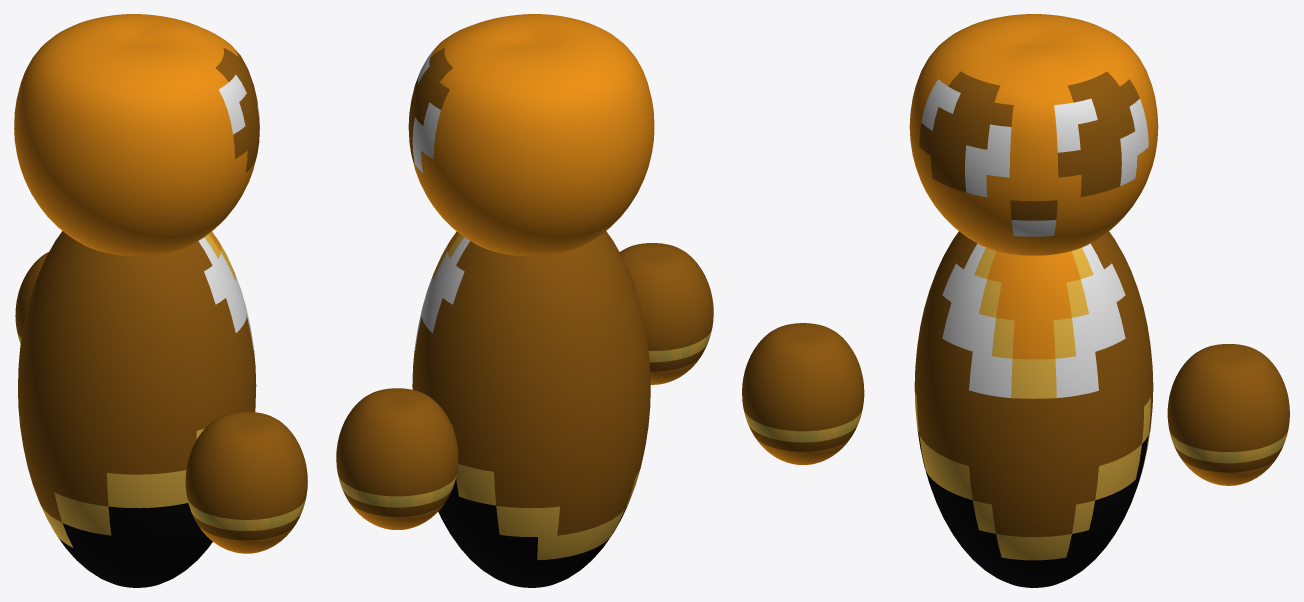
File: influencingorange.fbx
The picture shows the model from 3 angles, left to right: view 1: azimuth 30°, elevation 25°; view 2: azimuth 150°, elevation 25°; view 3: azimuth 270°, elevation 25°; orthographic projection.
Parts seen in each view (by area): view 1: Body, Head, Arm 1, Arm 2; view 2: Body, Head, Arm 2, Arm 1; view 3: Body, Head, Arm 2, Arm 1.
Part boxes in pixels (x1,y1,x2,y2): Body: (18, 231, 256, 587); Head: (14, 14, 259, 256); Arm 1: (185, 411, 307, 553); Arm 2: (15, 252, 48, 343); Body: (412, 231, 650, 587); Head: (408, 14, 654, 256); Arm 2: (336, 388, 458, 529); Arm 1: (620, 243, 713, 384); Body: (914, 231, 1153, 587); Head: (909, 14, 1158, 255); Arm 2: (1167, 344, 1289, 485); Arm 1: (742, 323, 864, 464).
Bounding box in the file's own units: 203 × 497 × 453.
